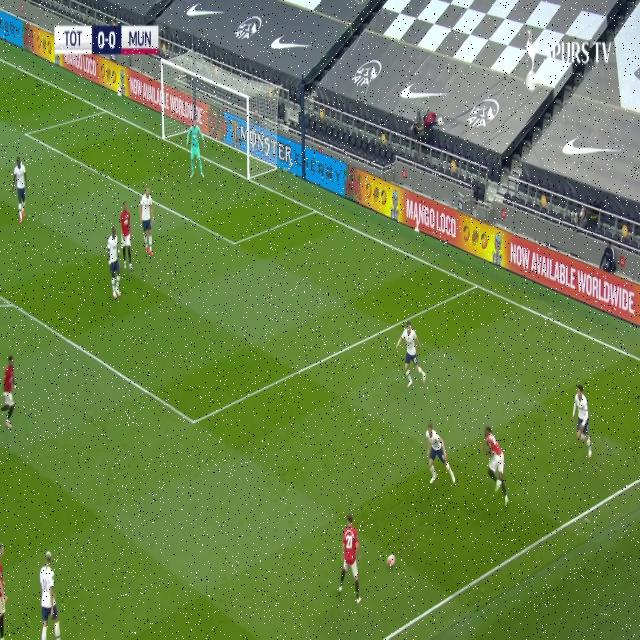Ball: (386, 547, 396, 572)
GoalKeeper: (185, 108, 206, 186)
TEAM 1: (479, 421, 516, 512), (339, 510, 364, 604), (2, 349, 20, 428), (0, 542, 14, 640), (118, 196, 134, 276)
TEAM 2: (37, 546, 64, 640), (395, 320, 428, 395), (423, 422, 457, 492), (7, 150, 31, 234), (572, 385, 594, 457), (137, 182, 156, 264), (106, 223, 122, 305)
